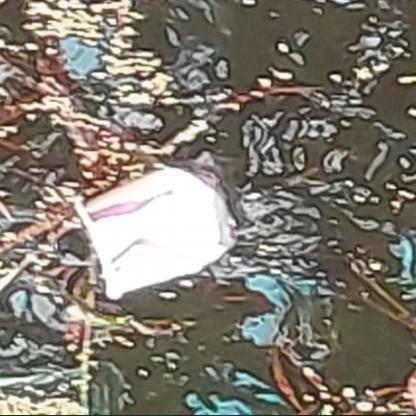Trash: (66, 154, 243, 306)
